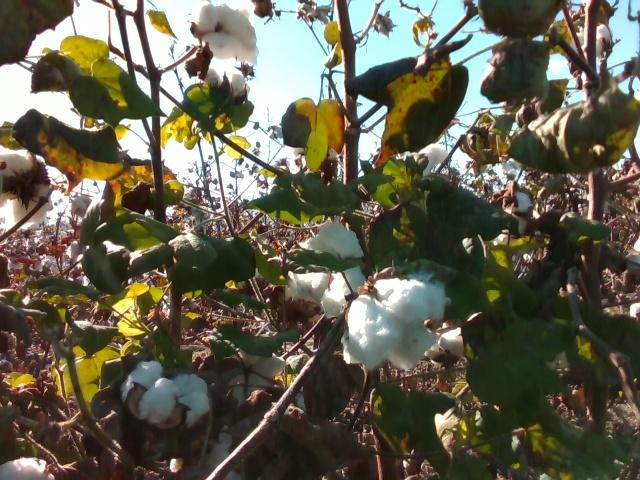cotton_ready: (343, 272, 451, 374), (285, 219, 369, 317), (122, 359, 213, 434), (183, 422, 266, 480), (190, 0, 261, 67), (0, 153, 57, 229), (505, 186, 542, 240), (203, 68, 252, 102), (564, 23, 612, 56), (0, 456, 58, 480)
